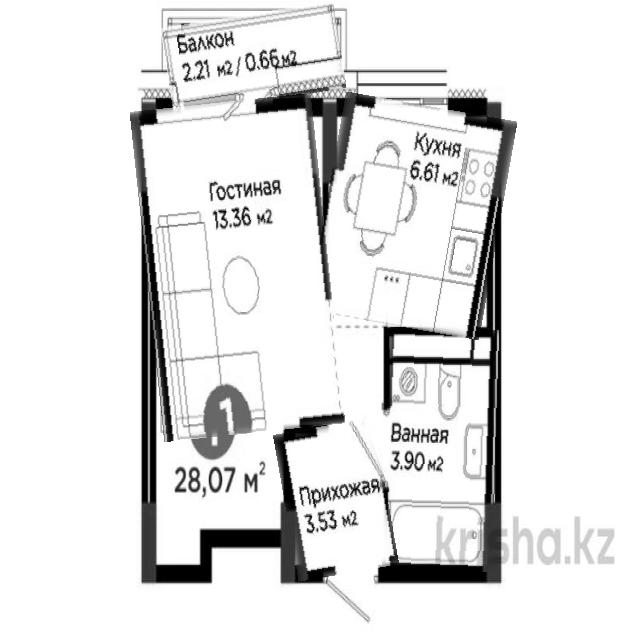balcony: (163, 8, 344, 108)
bathroom: (384, 328, 498, 572)
hallway: (279, 421, 393, 578)
kitchen: (317, 98, 509, 334)
living_room: (139, 98, 337, 438)
